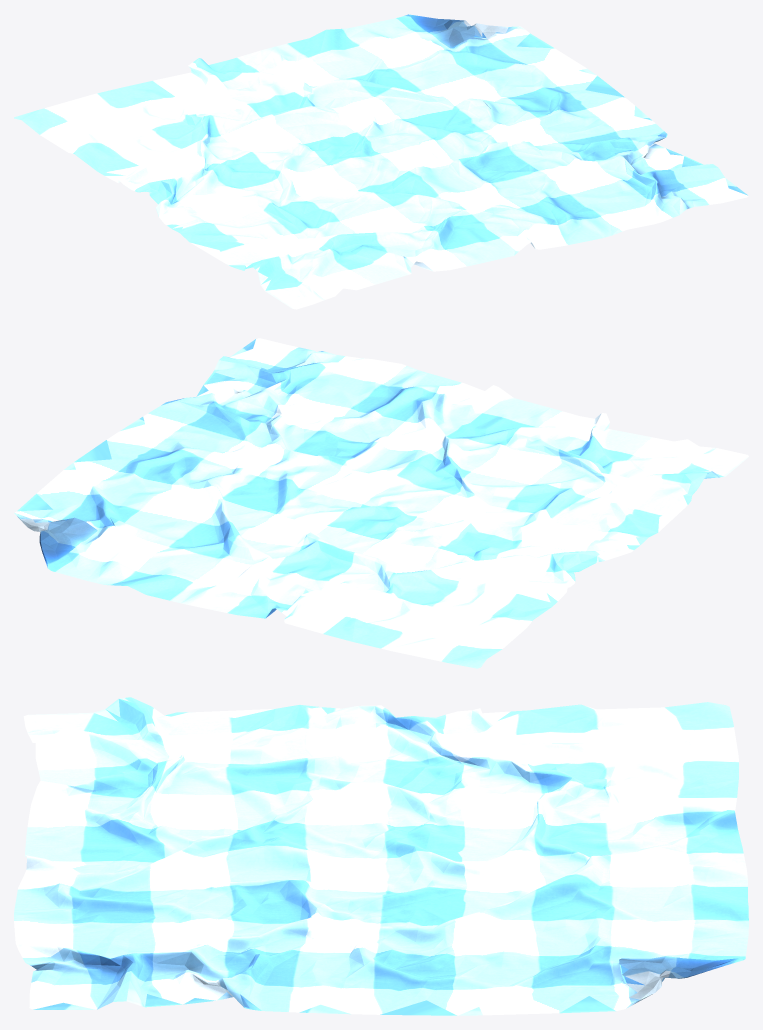
File: picnic.gltf
3 renders of one model, top to bottom at view 1: azimuth 30°, elevation 25°; view 2: azimuth 150°, elevation 25°; view 3: azimuth 270°, elevation 25°, orthographic. The views are drawn at different scales.
Parts seen in each view (by area): view 1: Plane; view 2: Plane; view 3: Plane.
Part boxes in pixels (x1=…): Plane: x1=14, y1=14, x2=748, y2=309; Plane: x1=14, y1=338, x2=748, y2=668; Plane: x1=14, y1=697, x2=748, y2=1015.
Size of the model in its own units: 12.65 by 0.3398 by 12.67.
1 material, 1 textured.
